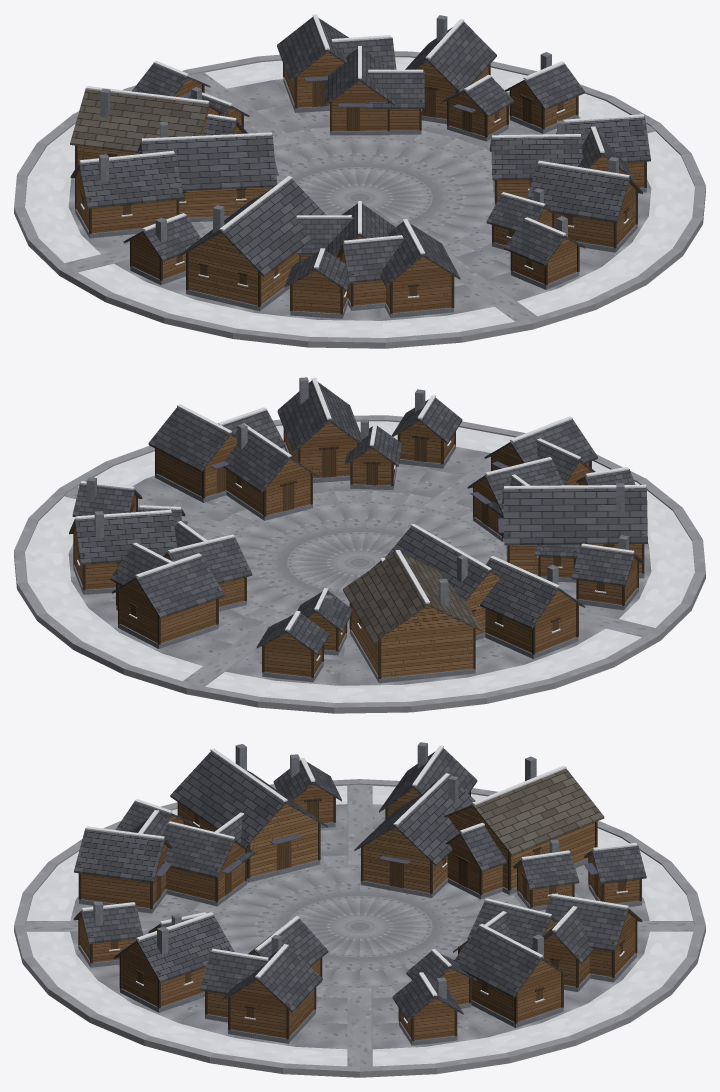
The model's file is ae_snow_village_small_lod1.glb.
3 renders of one model, top to bottom at view 1: azimuth 30°, elevation 25°; view 2: azimuth 150°, elevation 25°; view 3: azimuth 270°, elevation 25°, orthographic.
Visible parts, largest first — view 1: ae_snow_village_small_lod1; view 2: ae_snow_village_small_lod1; view 3: ae_snow_village_small_lod1.
Part boxes in pixels (box(x1,y1,x2,y2)): ae_snow_village_small_lod1: box(14, 14, 705, 348); ae_snow_village_small_lod1: box(14, 377, 705, 713); ae_snow_village_small_lod1: box(14, 742, 705, 1077).
Size of the model in its own units: 1.9 by 0.2738 by 1.9.
1 material, 1 textured.
